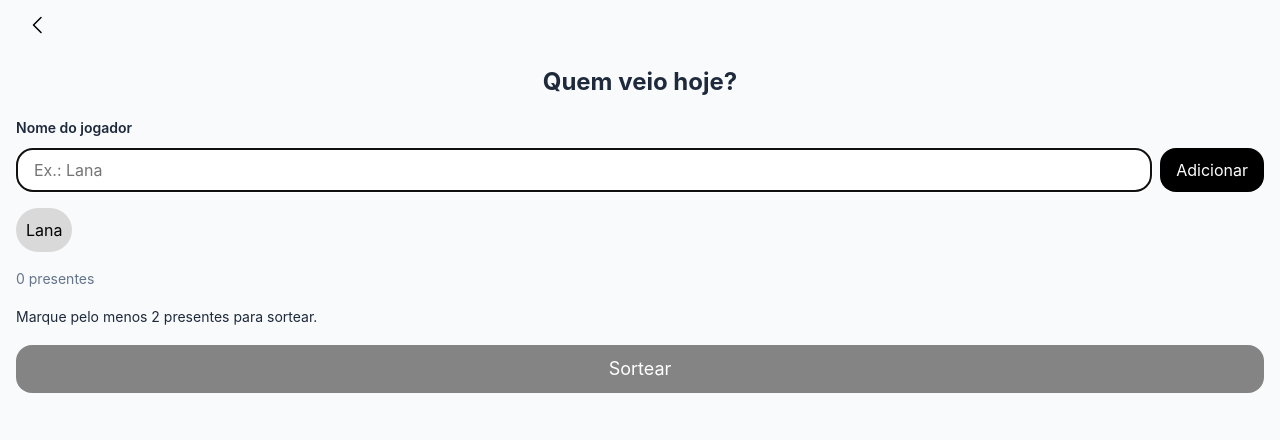
RosterScreen — comportamento (US1.2) › duplicata mostra aviso e não duplica
Type "Lana" into the field with test id "roster-name-input" at (584, 170), box [16,148,1152,192]
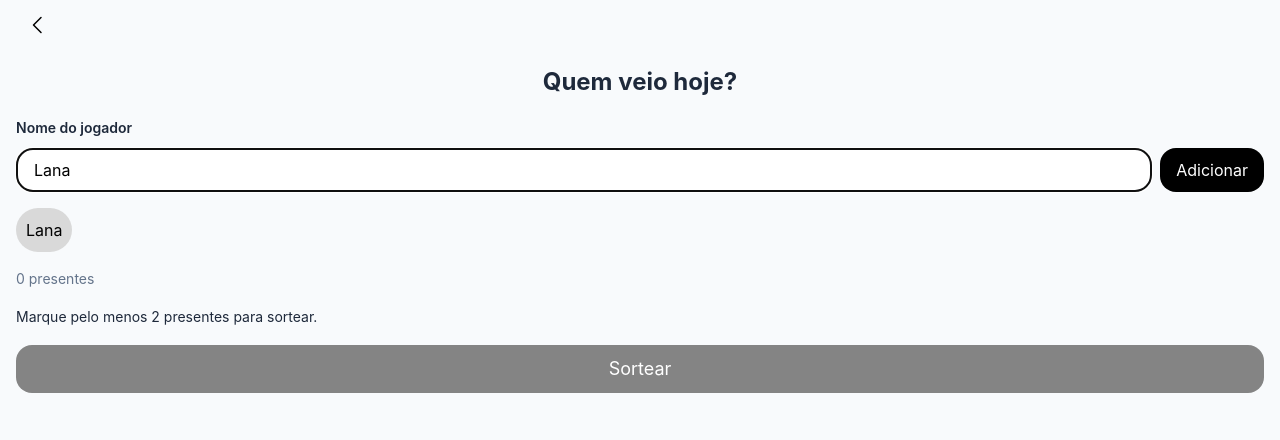
Click the button with test id "roster-add-button" at (1212, 170), box [1160,148,1264,192]
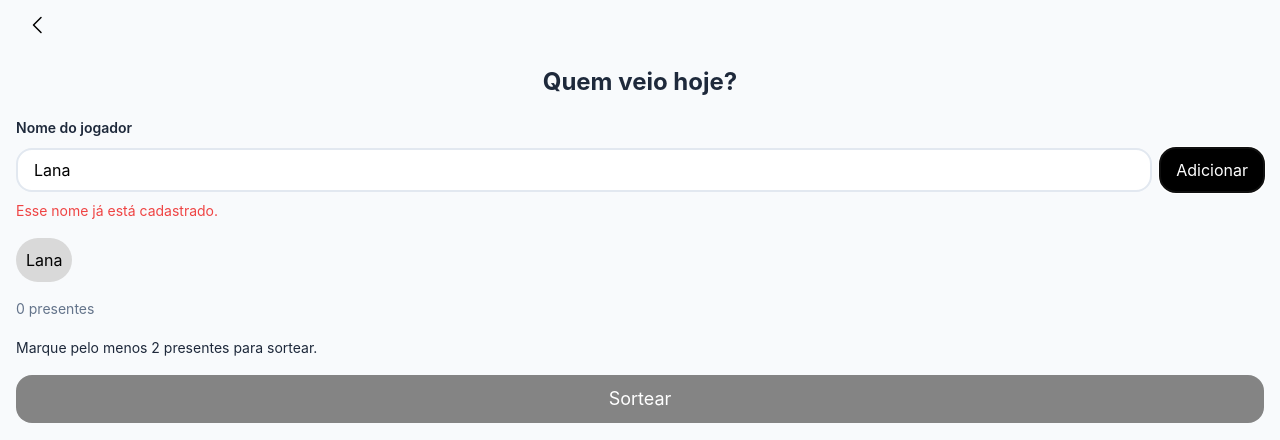
Expected: the number of buttons "Lana" is 1, [16,238,72,282]
Expected: the message with test id "roster-error" shows "já está cadastrado", [16,202,218,219]
